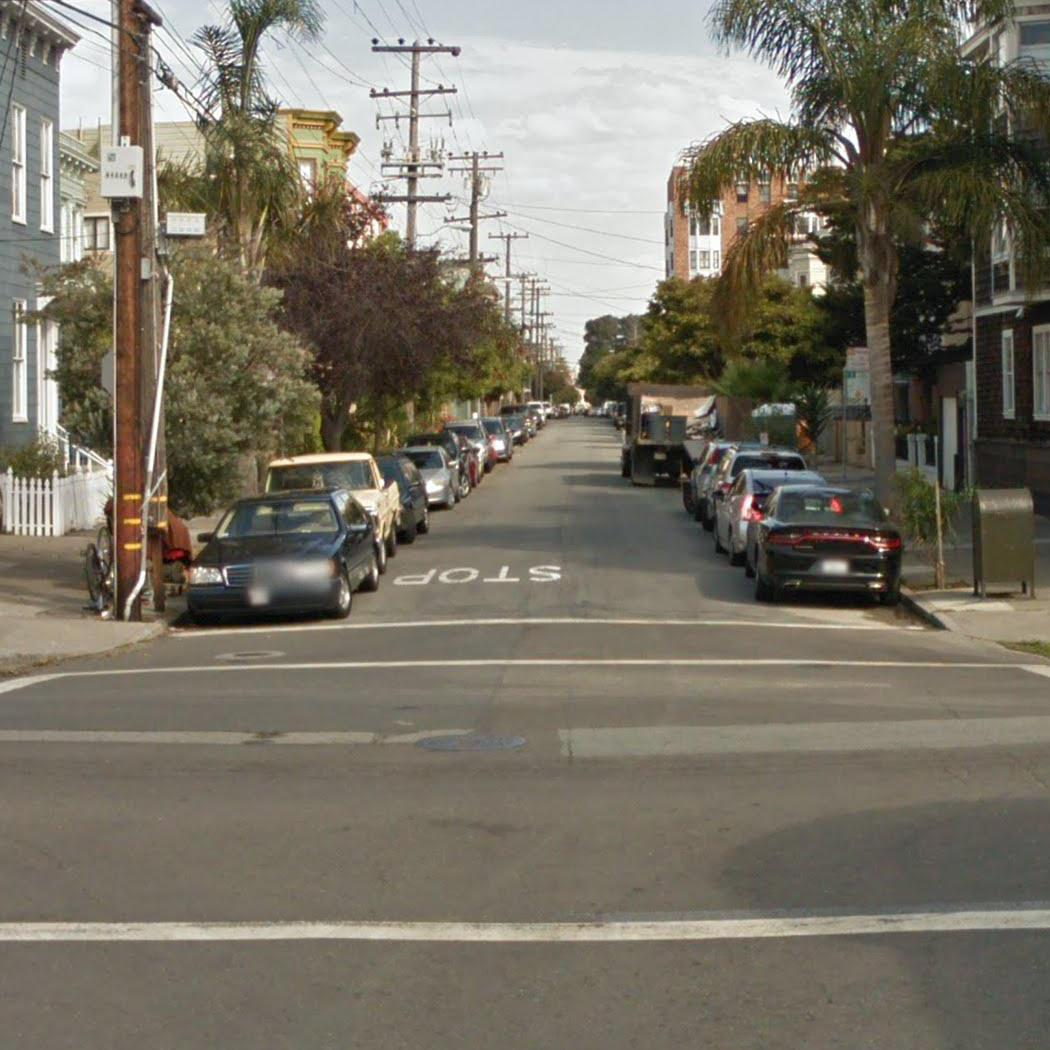2 Hour Parking: (845, 372, 873, 407)
No Parking: (845, 346, 871, 372)
